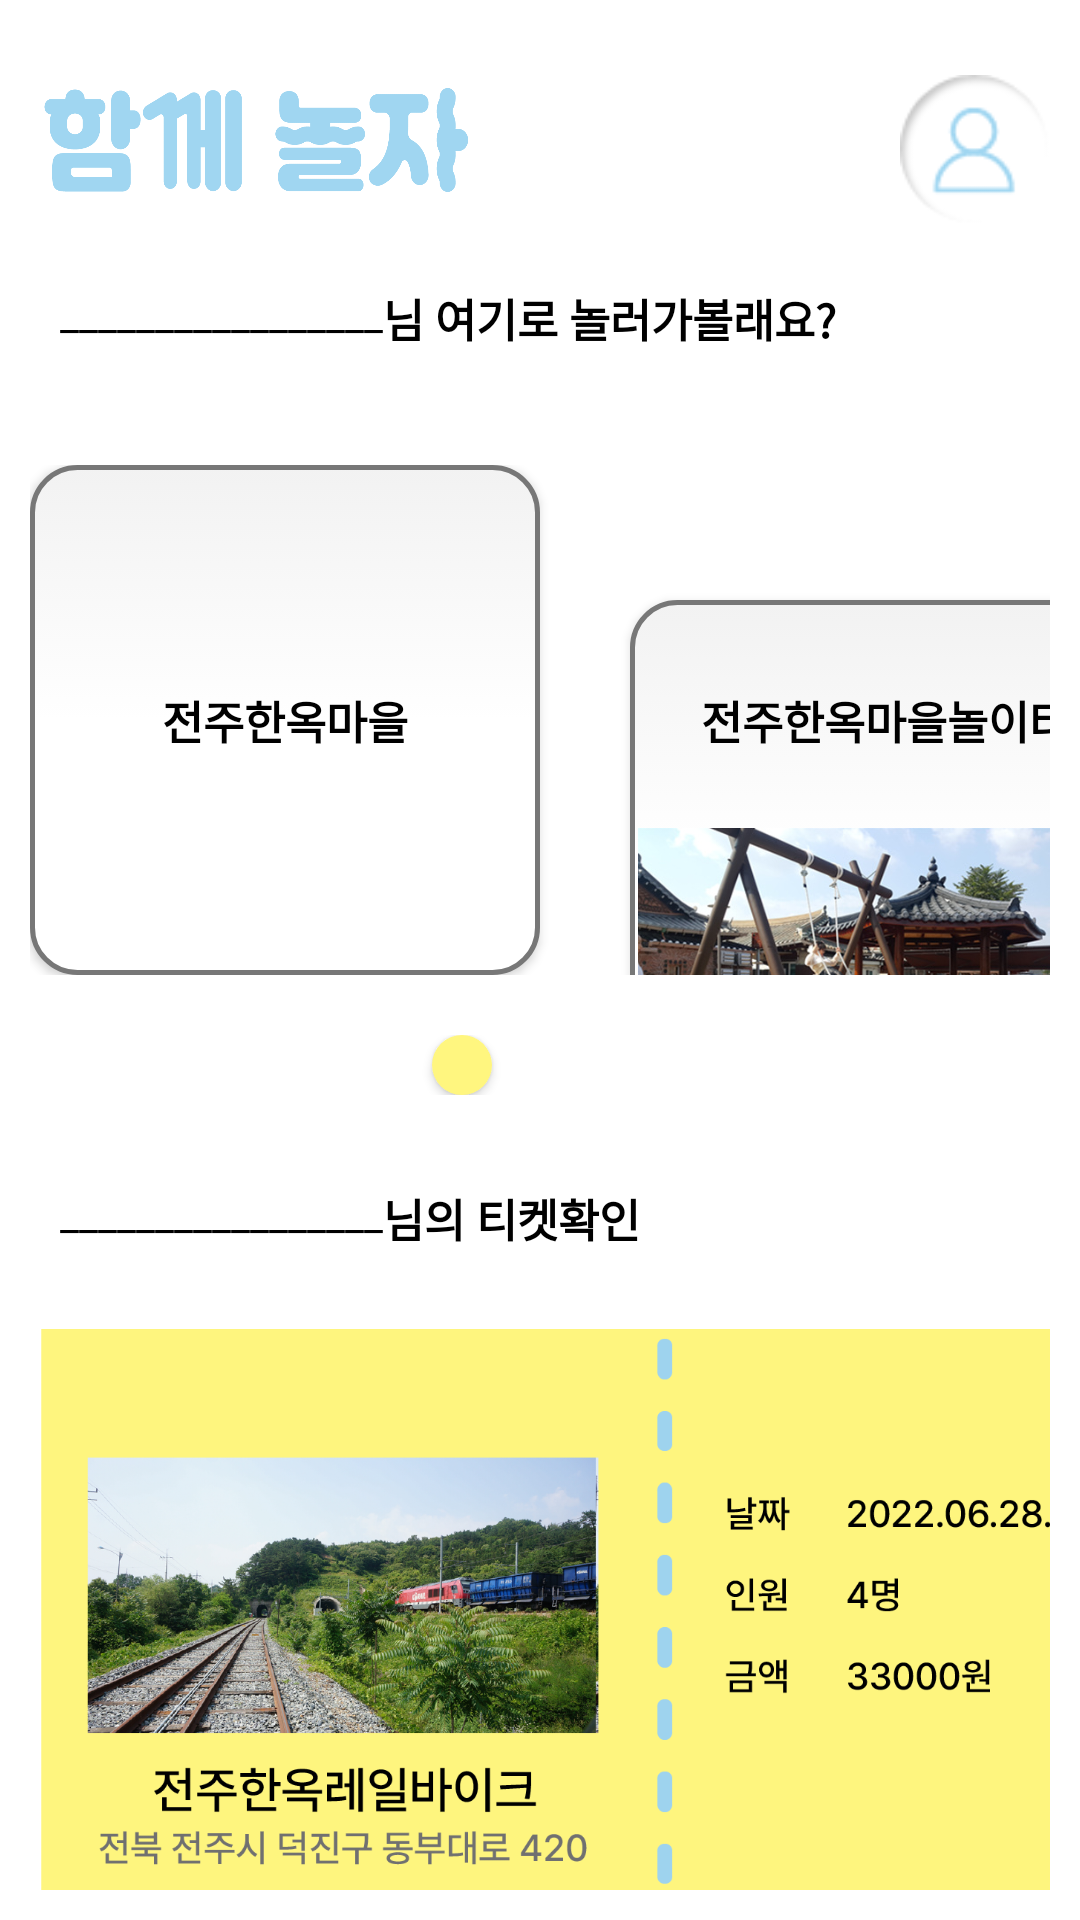

Where icons sit on this 1080px×1920px app screen, as (x1, y1, x2, y2):
user: (900, 75, 1015, 193)
